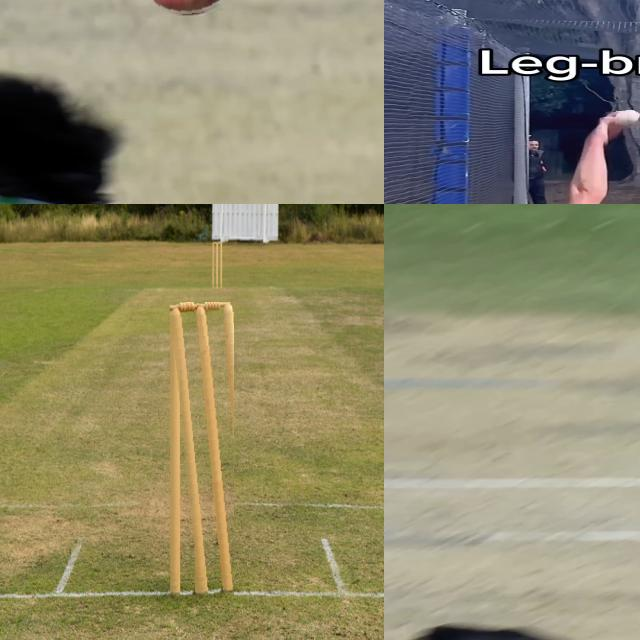Cricket ball: (140, 0, 231, 17), (610, 109, 640, 128)
Stumps: (170, 302, 234, 598), (211, 240, 223, 290)
